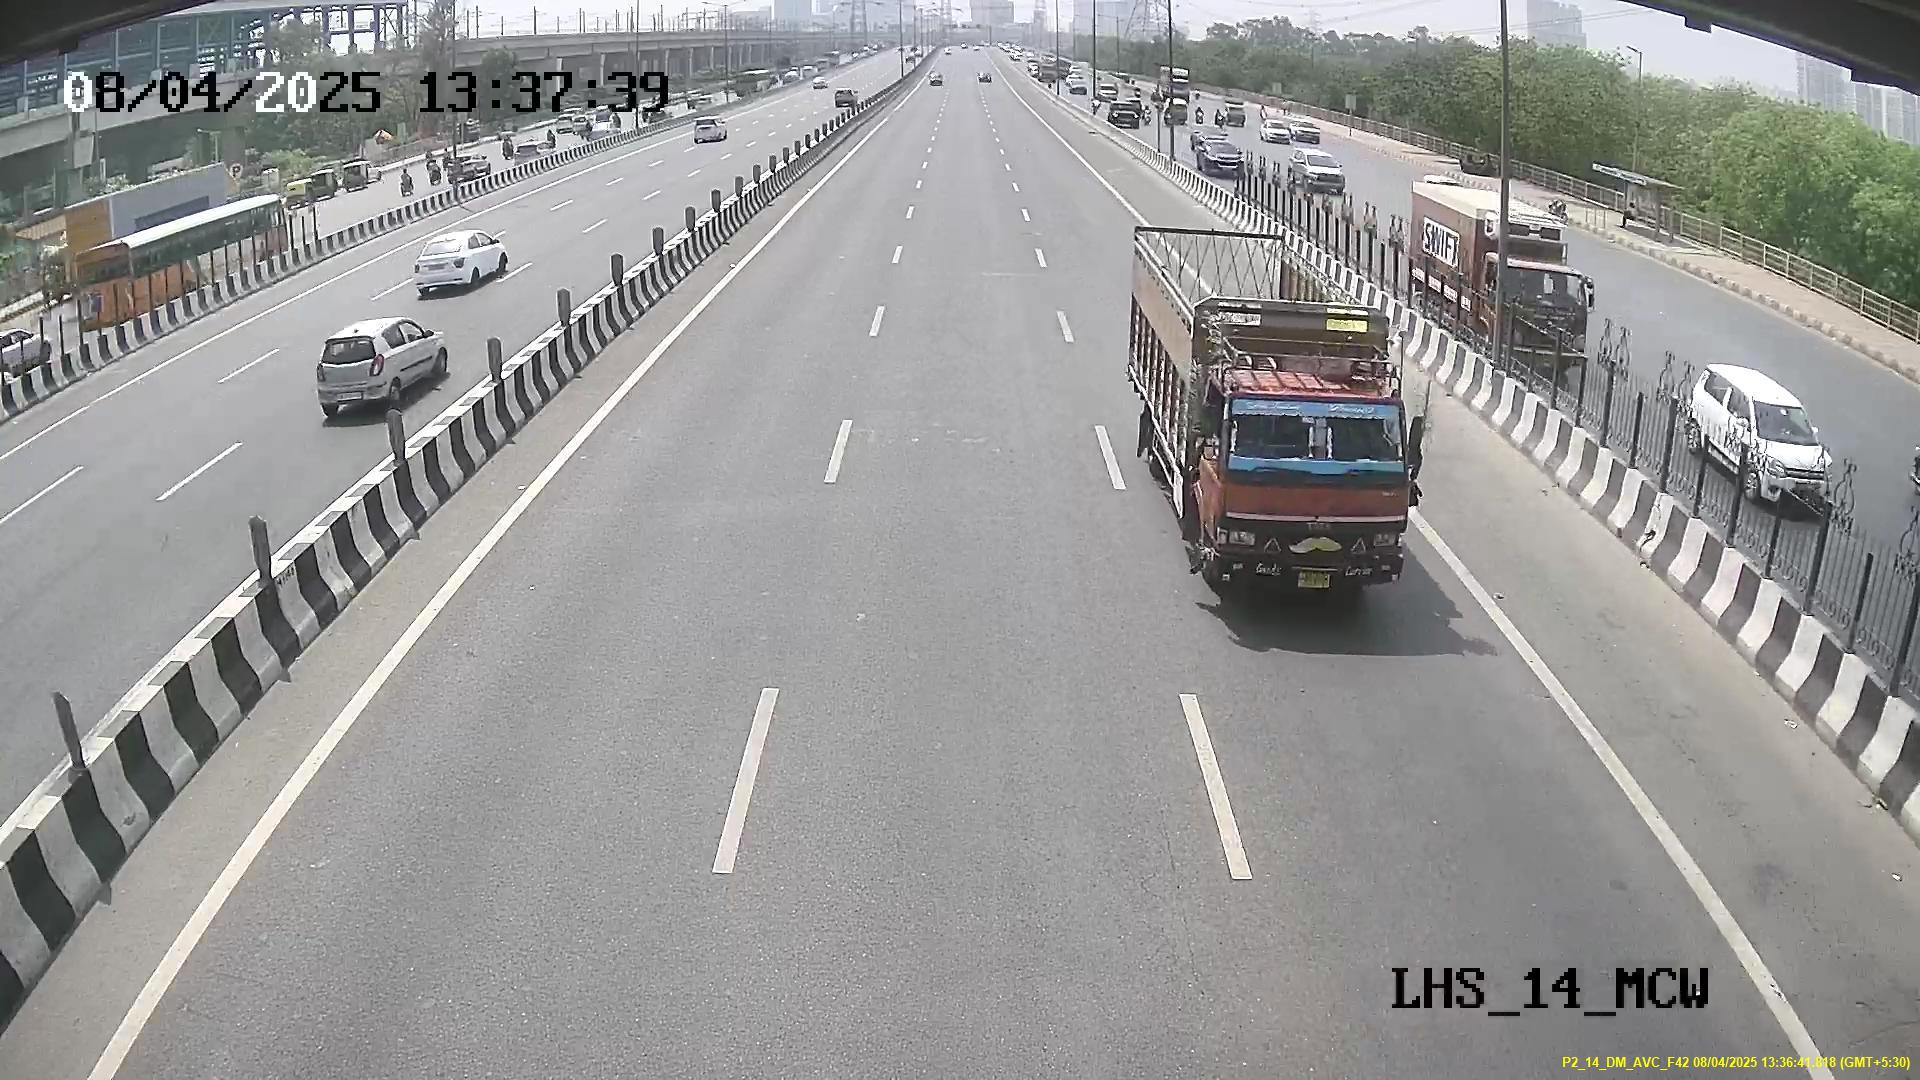lcv: (1195, 355, 1412, 600)
